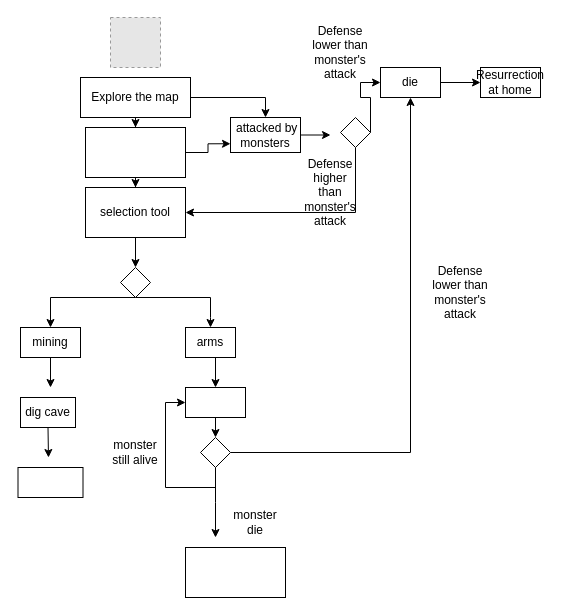
Image size: 561x615. Some labels were removed from this diagram. Grey dashed boxes stand in for pictures. The shapes that lost their labels are listed below. From the top down, each one's centre as x and y in pixels, then its label:
At pixel 135 152: "encounter cave".
At pixel 215 402: "attack monster".
At pixel 50 482: "get ore".
At pixel 235 572: "get money and random item".
